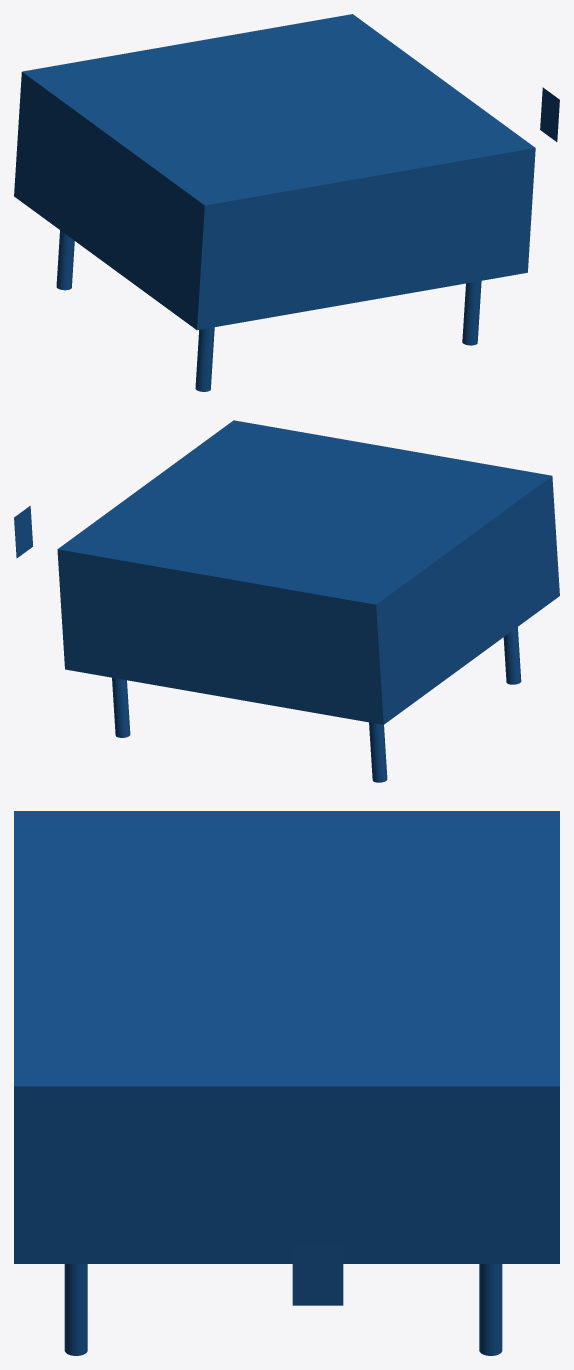
3 renders of one model, top to bottom at view 1: azimuth 30°, elevation 25°; view 2: azimuth 150°, elevation 25°; view 3: azimuth 270°, elevation 25°, orthographic. The views are drawn at different scales.
Visible parts, largest first — view 1: part_0000; view 2: part_0000; view 3: part_0000.
Part boxes in pixels (x1,y1,x2,y2): part_0000: (14, 14, 559, 391); part_0000: (14, 420, 559, 782); part_0000: (14, 811, 559, 1355).
Bounding box in the file's own units: 0.3413 × 0.159 × 0.237.
